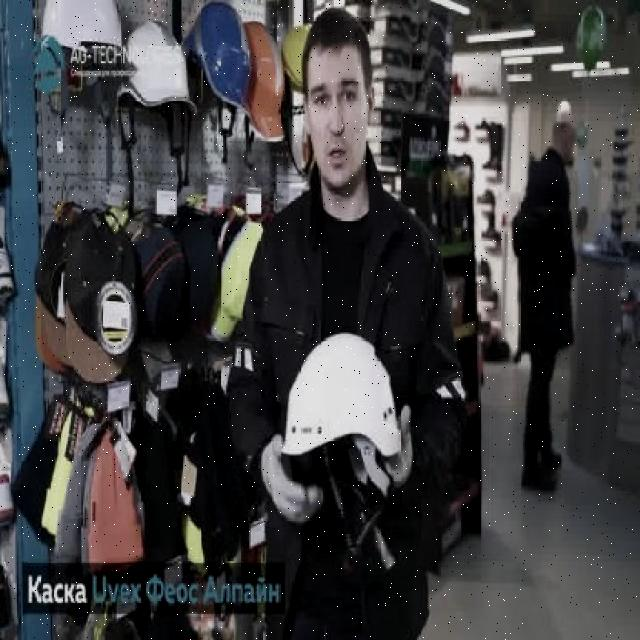Gloves: (258, 436, 326, 530)
Helmet: (278, 317, 404, 492), (186, 0, 252, 125), (115, 19, 200, 116), (38, 0, 128, 77), (246, 22, 292, 144)
